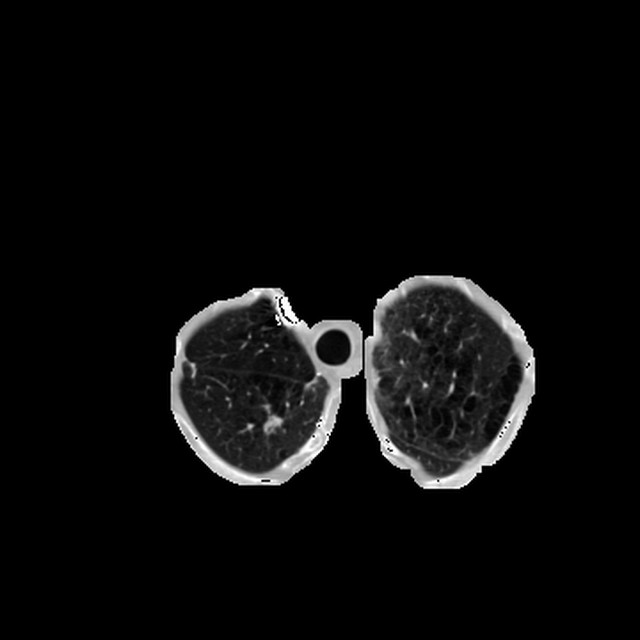PN: (265, 416, 279, 430)
